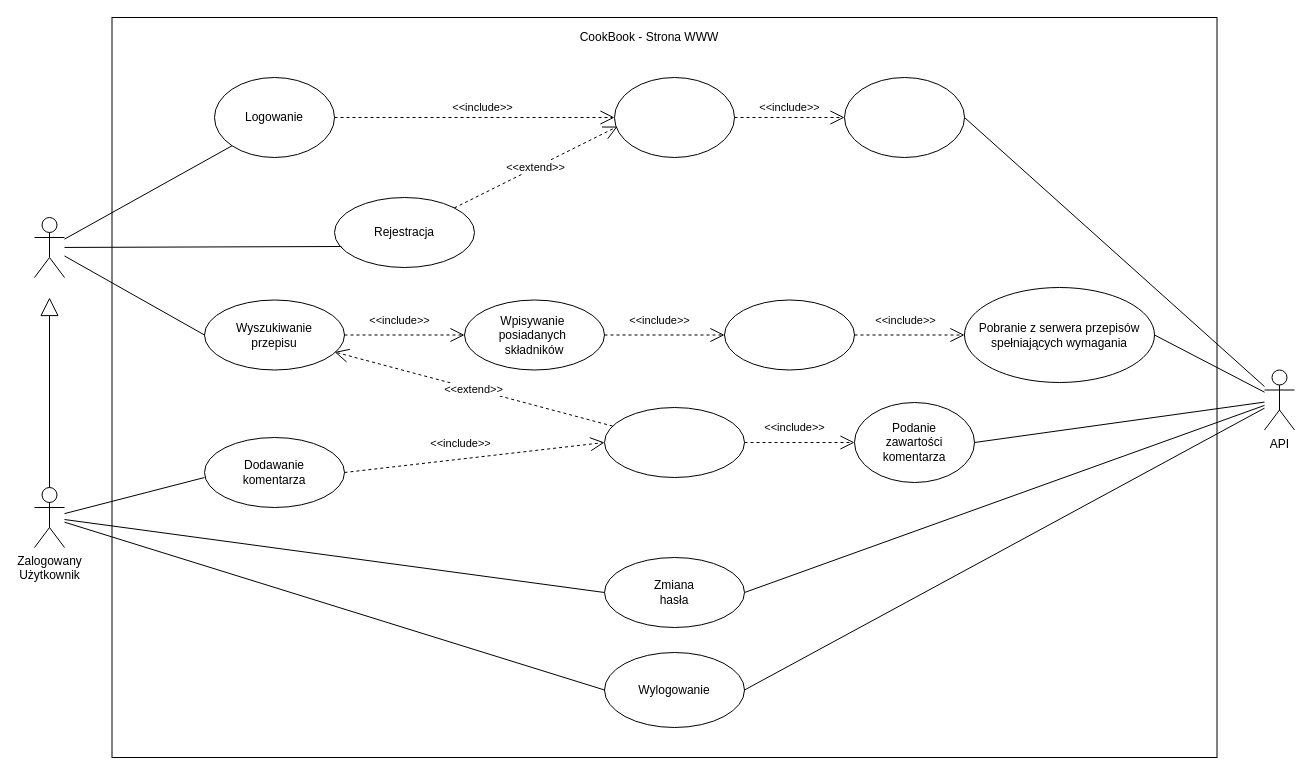
This 1312x775 diagram has some shape labels left out. The shapes that lost their labels are listed below. From the top down, each one's box as (x1, y1, x2, y2) in pixels, then its label:
(614, 76, 734, 158): Podanie loginu i hasła
(844, 76, 964, 158): Autoryzacja
(34, 216, 64, 278): Użytkownik
(724, 299, 854, 370): Walidacja danych
(604, 406, 744, 478): Wybór przepisu
